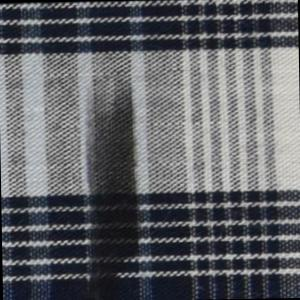Stain: (77, 81, 146, 300)
